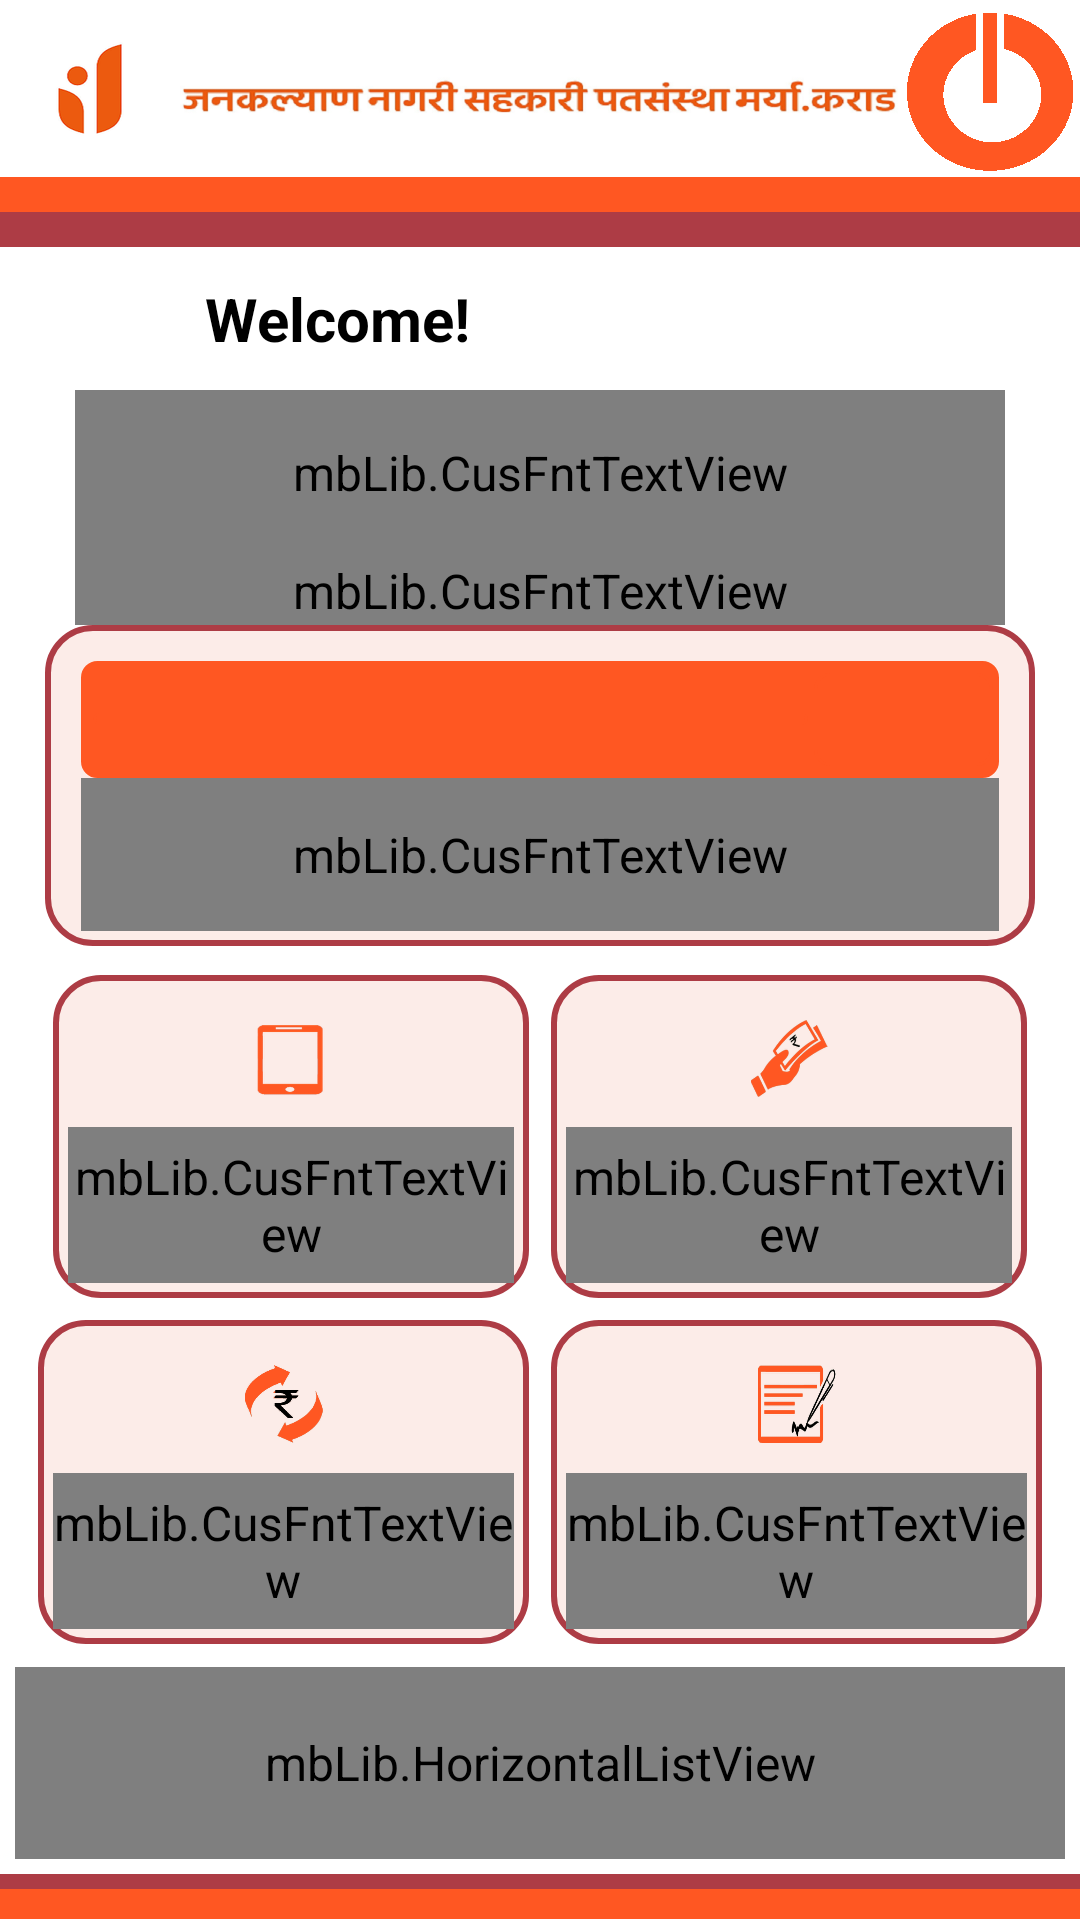

Icon click points for this 1080 x 1920 phone screenshot, format [x,y]:
fund trnsfer: [284,1404]
mobile: [290,1060]
